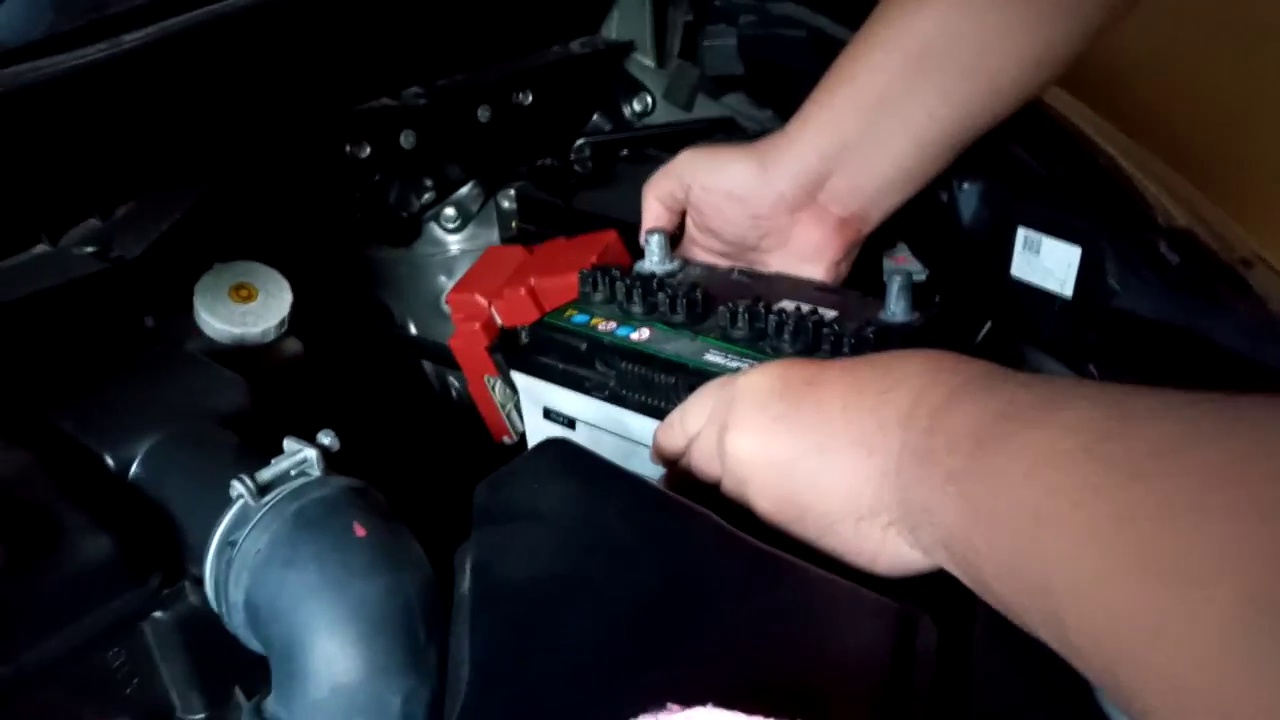battery: (513, 206, 982, 420)
neg_disconnected: (843, 256, 949, 336)
pos_disconnected: (439, 211, 688, 361)
